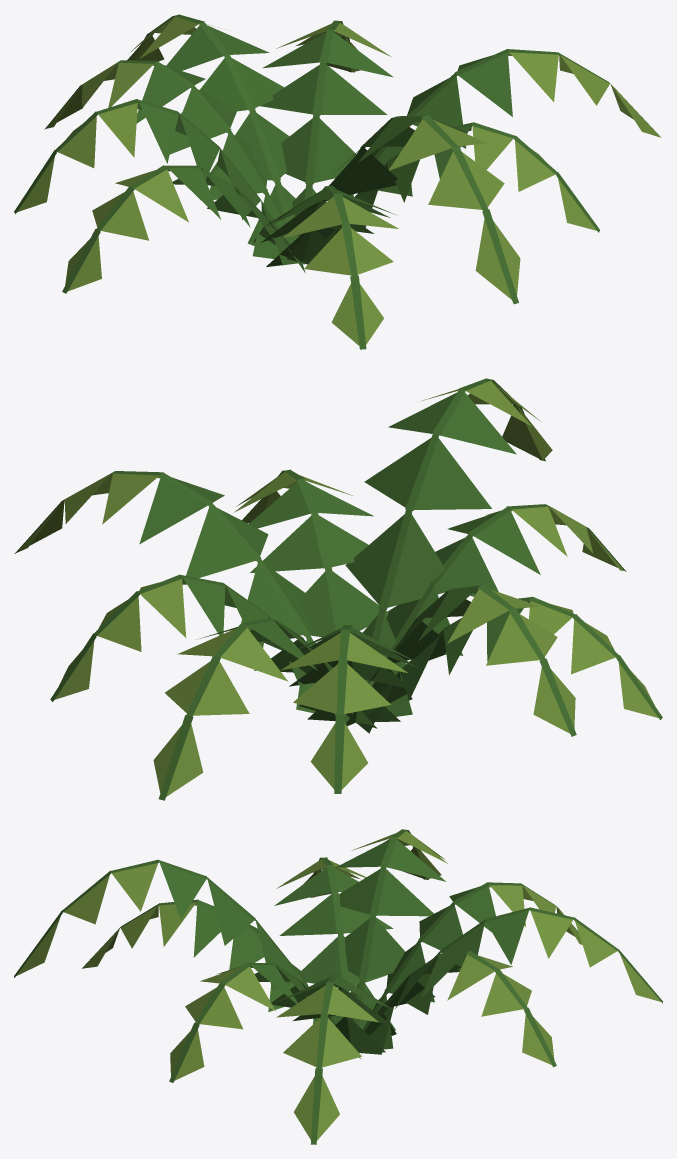
The model's file is fern.glb.
The picture shows the model from 3 angles, top to bottom: view 1: azimuth 30°, elevation 25°; view 2: azimuth 150°, elevation 25°; view 3: azimuth 270°, elevation 25°; orthographic projection. The views are drawn at different scales.
Parts seen in each view (by area): view 1: Fern; view 2: Fern; view 3: Fern.
Boxes of the visible parts, x1,y1,x2,y2 form: Fern: (14,14,661,349); Fern: (14,378,662,800); Fern: (14,829,662,1144).
Size of the model in its own units: 0.6226 by 0.2235 by 0.6701.
